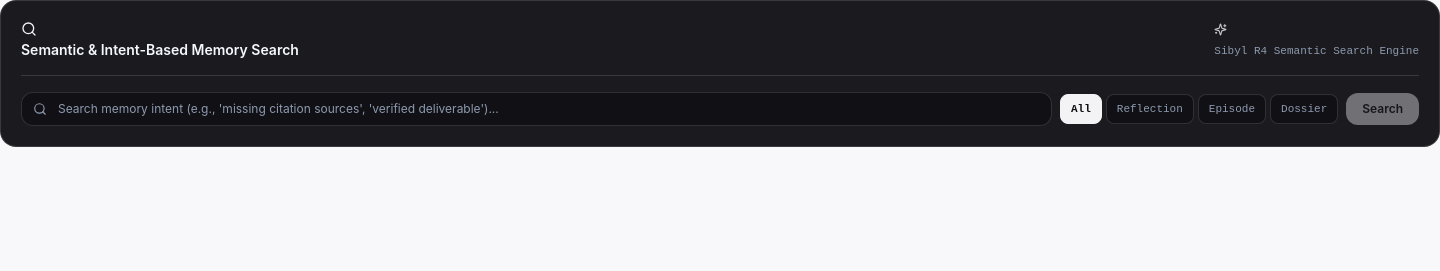
it: Milestone 4 Web UI Adversarial & Empirical Stress Tests › 5. CounterpartySemanticSearch Edge Cases › handles SQL-like queries safely without XSS or crashing
Type "' OR 1=1 --; DROP TABLE memories;" into the field with test id "semantic-search-input" at (536, 109), box [21,92,1052,126]
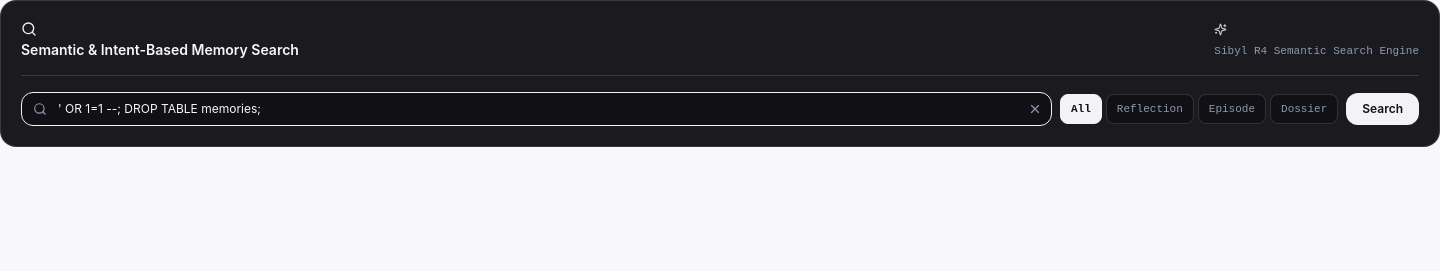
Result: the button with test id "semantic-search-submit" is enabled
Click the button with test id "semantic-search-submit" at (1383, 109), box [1346,93,1419,125]
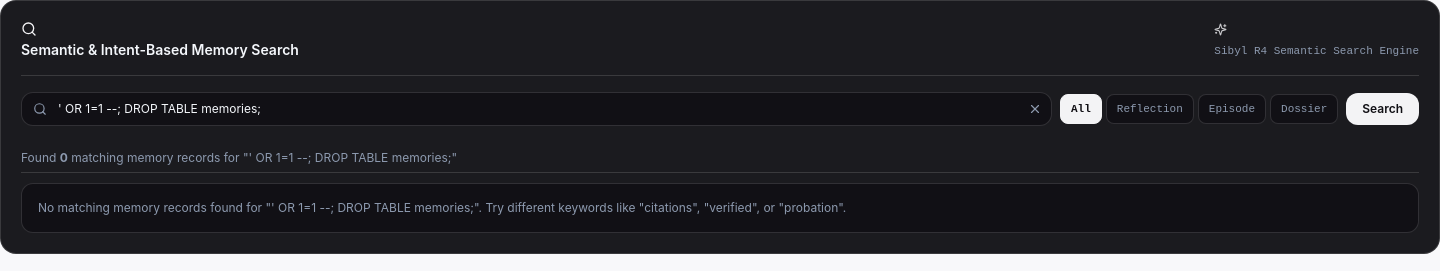
Result: the text with test id "semantic-search-empty" is shown at [21,183,1419,233]
